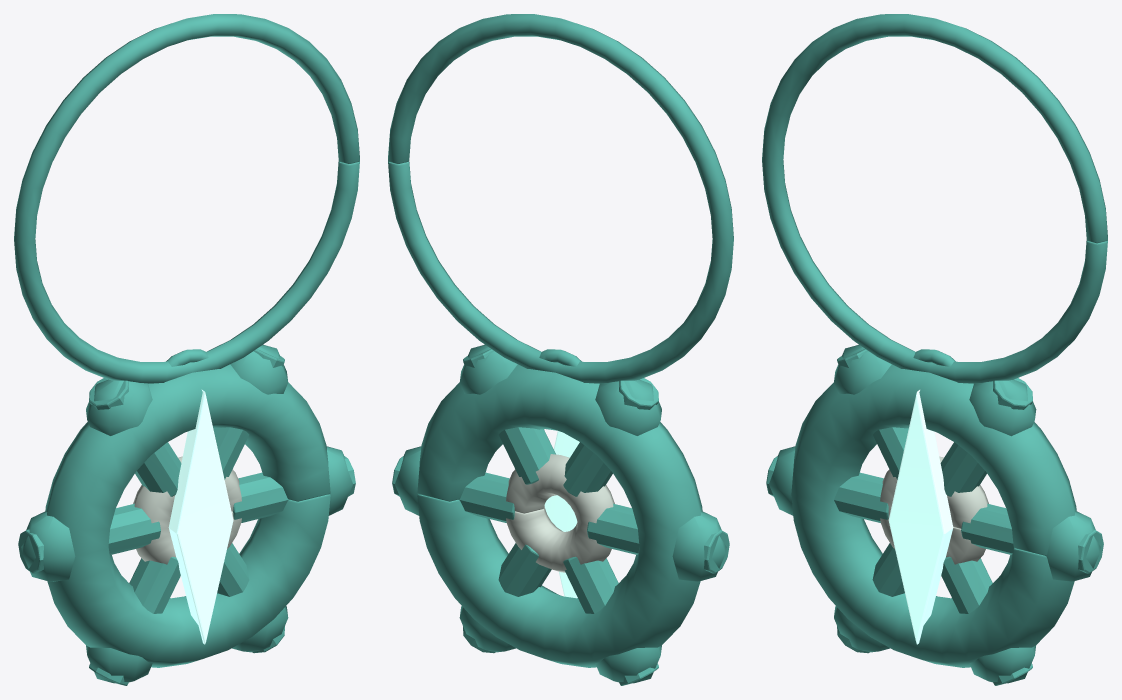
The model's file is item_087.glb.
3 views of the same model, side by side, from view 1: azimuth 30°, elevation 25°; view 2: azimuth 150°, elevation 25°; view 3: azimuth 330°, elevation 25° (orthographic).
Visible parts, largest first — view 1: Item_087_sixroad_compass; view 2: Item_087_sixroad_compass; view 3: Item_087_sixroad_compass.
Boxes of the visible parts, box(x1,y1,x2,y2) form: Item_087_sixroad_compass: box(14, 14, 359, 685); Item_087_sixroad_compass: box(388, 14, 733, 685); Item_087_sixroad_compass: box(762, 14, 1107, 685).
Size of the model in its own units: 0.4259 by 0.7645 by 0.075.
